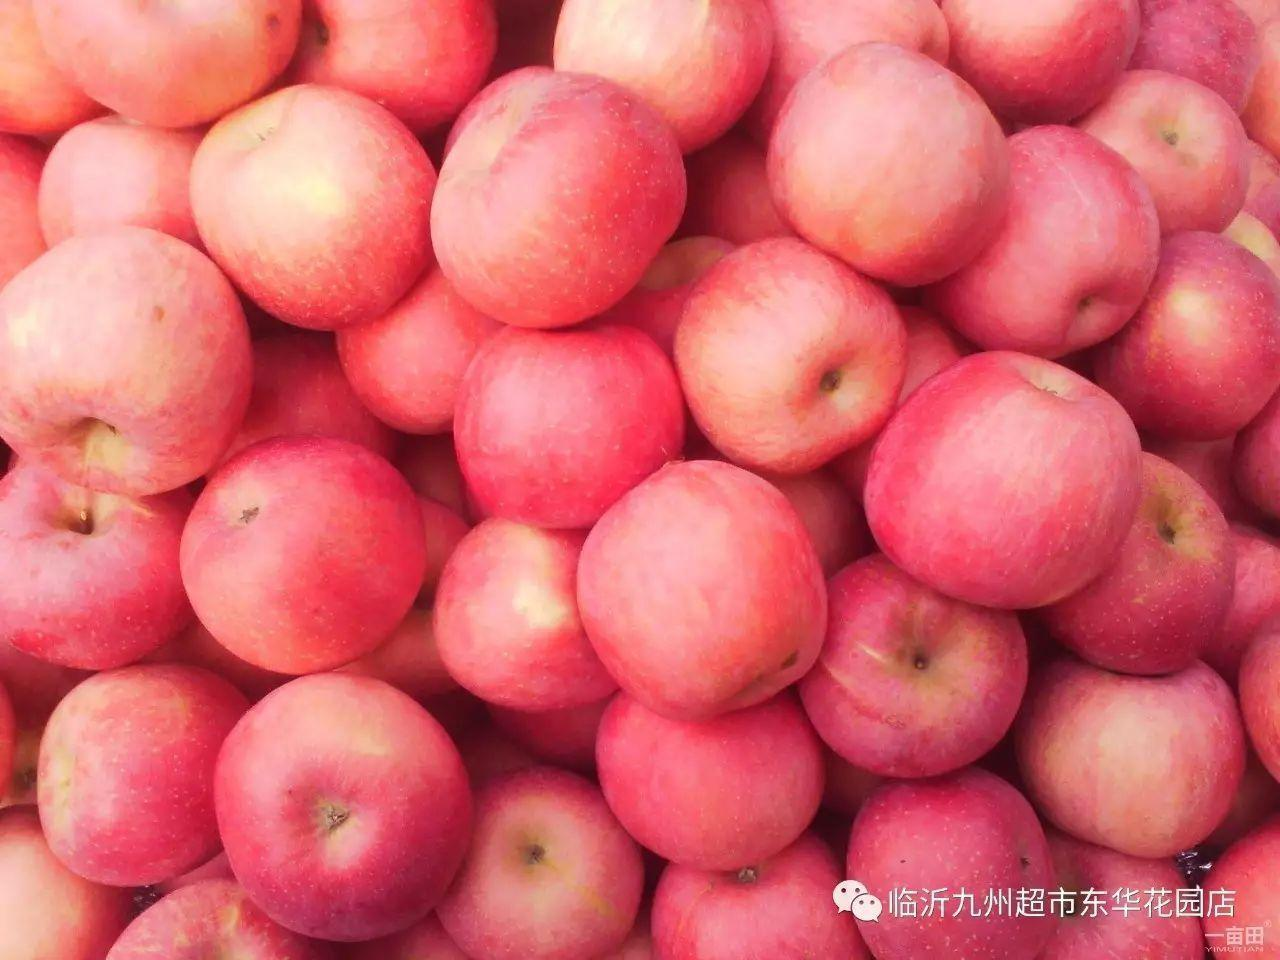apple: (857, 348, 1141, 615), (211, 668, 474, 944), (3, 221, 257, 506), (427, 66, 695, 329), (578, 456, 829, 721), (768, 42, 1023, 298), (173, 426, 428, 678), (190, 82, 435, 332), (667, 237, 905, 478), (935, 115, 1170, 357), (796, 550, 1032, 781), (453, 319, 689, 532), (30, 663, 247, 895), (1025, 657, 1243, 862), (1045, 448, 1237, 680), (594, 686, 827, 871), (3, 460, 194, 676), (434, 764, 640, 956), (424, 514, 618, 713), (844, 768, 1053, 948), (549, 4, 773, 153), (27, 1, 293, 124), (330, 268, 502, 434), (1075, 70, 1247, 234), (222, 326, 402, 481), (934, 2, 1141, 128), (38, 113, 207, 258)
